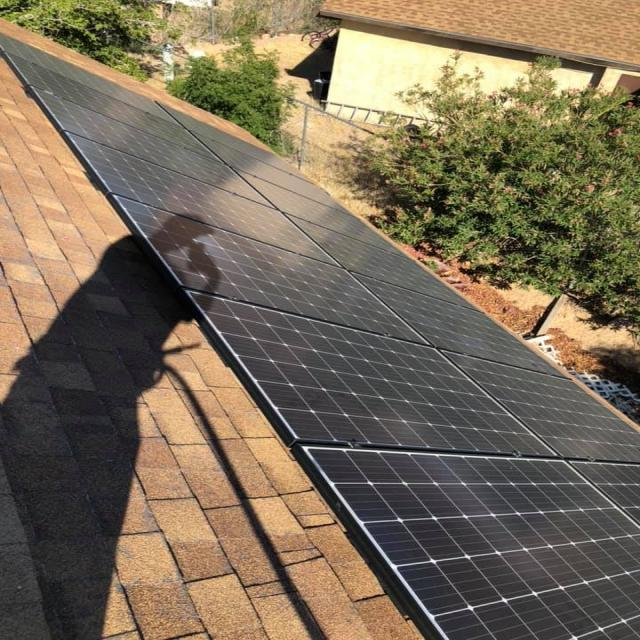clean-solar-panel: (2, 31, 638, 640)
